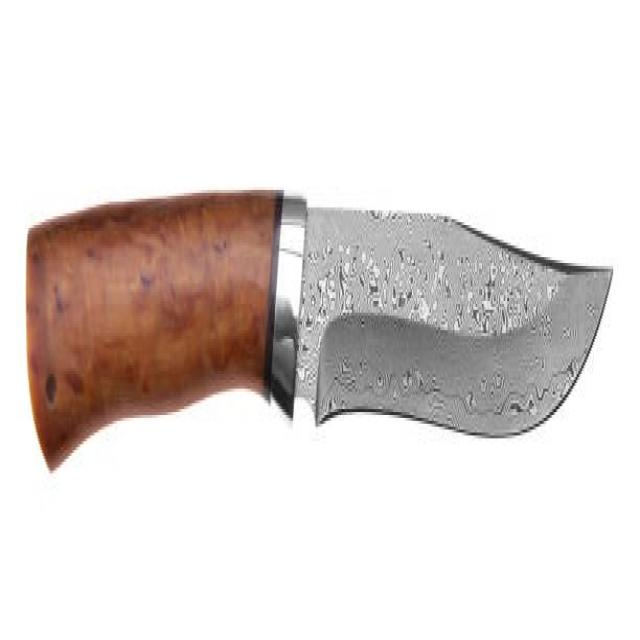knife: (23, 173, 625, 501)
